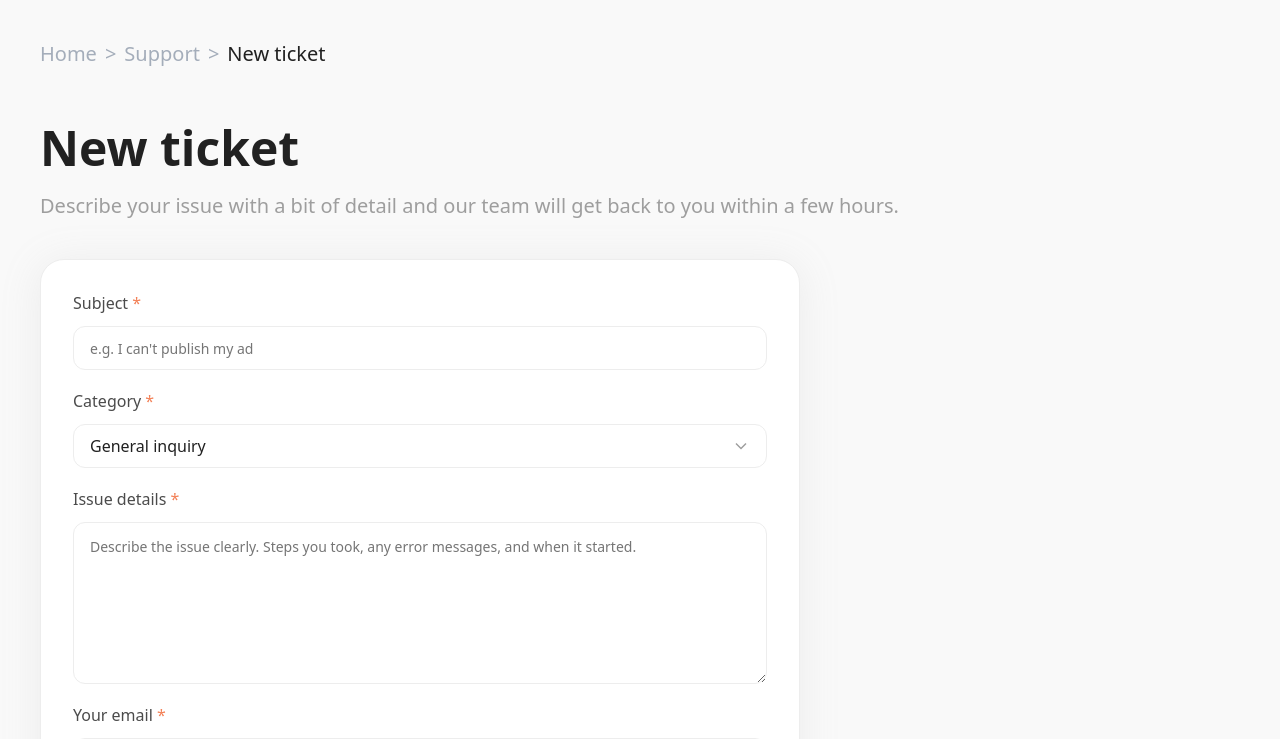
NewTicketClient › lets guests file a ticket and shows the reference to quote
The width and height of the screenshot is (1280, 739).
Step 1. Type "Cannot publish my ad" into the field labelled "Subject" → [420, 348], box [73,326,767,370]
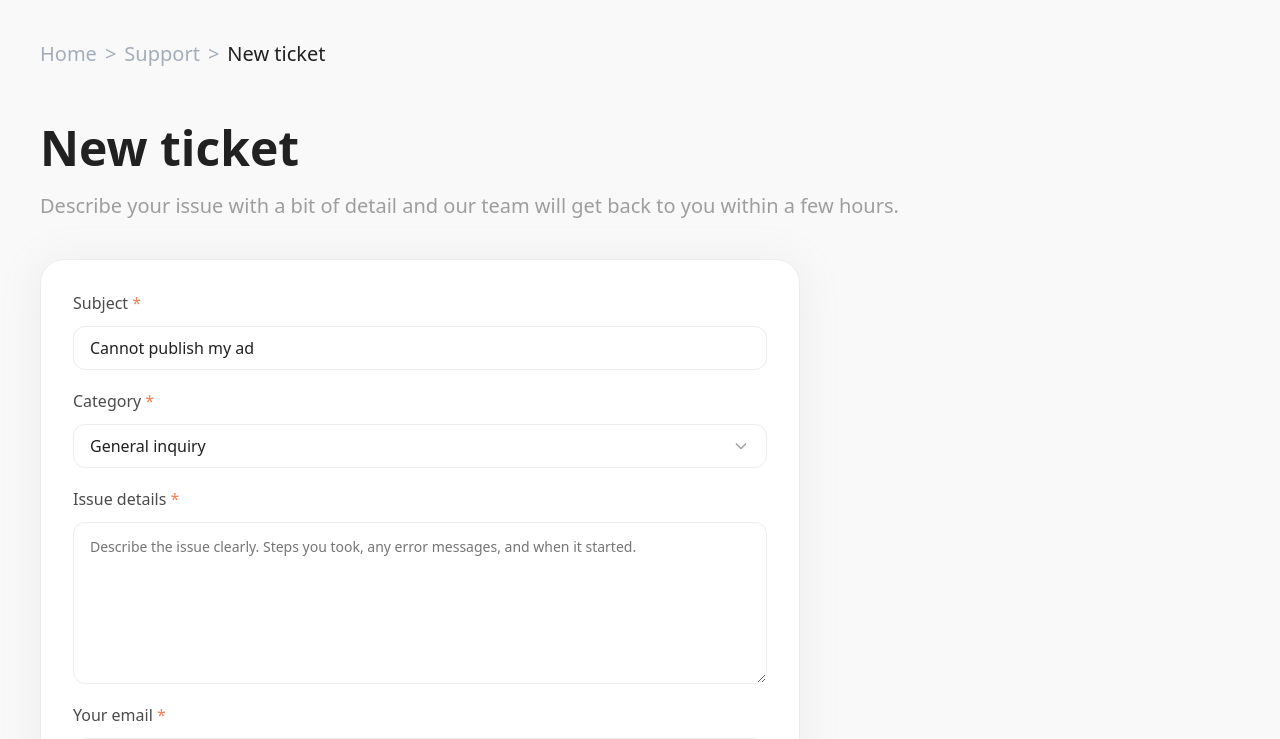
Step 2. Select "Technical issue" in the dropdown labelled "Category" → [420, 446], box [73,424,767,468]
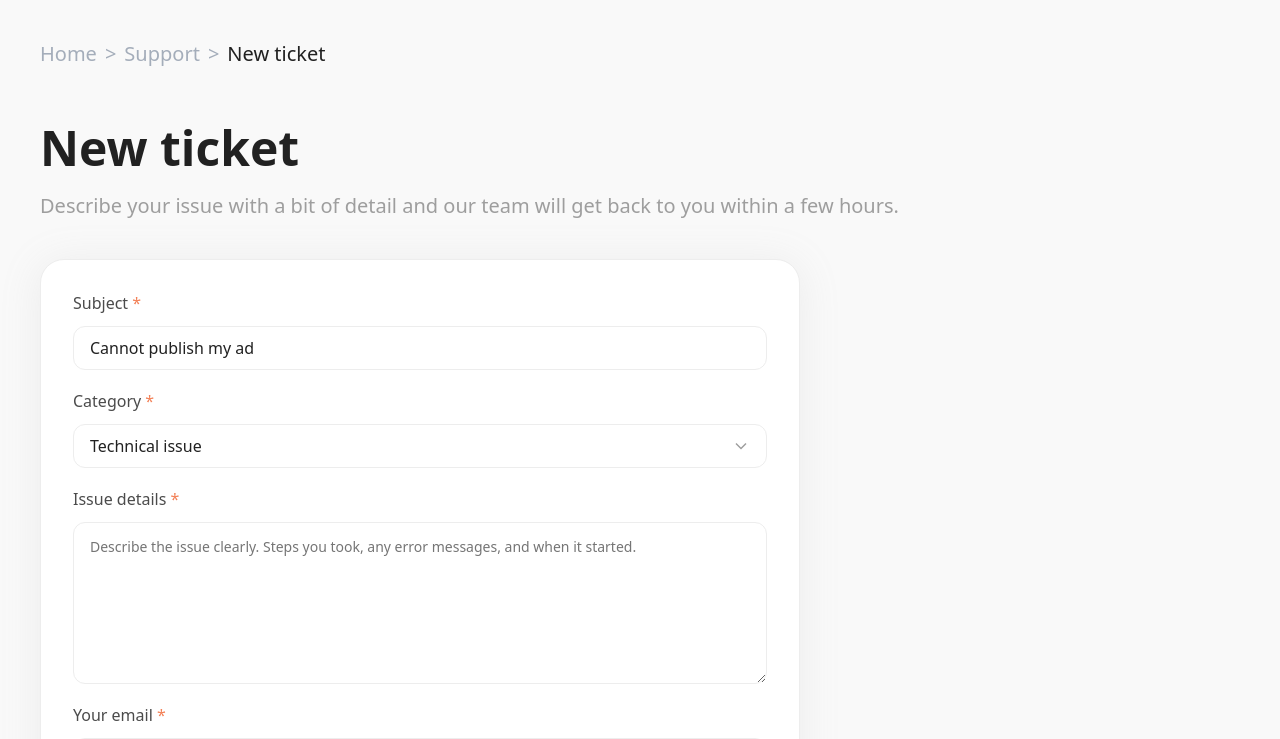
Step 3. Replace the text in the text box labelled "Issue details" with "The publish button does nothing on step three." → [420, 603], box [73,522,767,684]
(page scrolled)
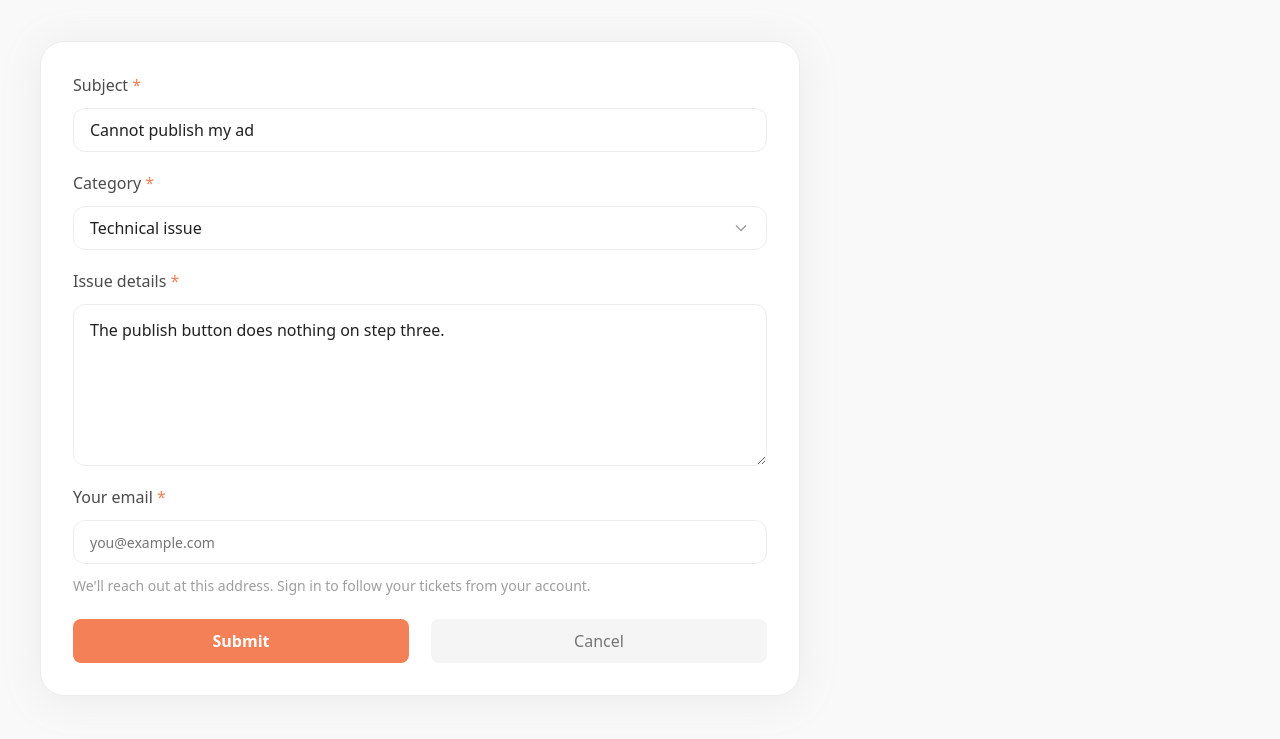
Step 4. Type "guest@example.qa" into the field labelled "Your email" → [420, 542], box [73,520,767,564]
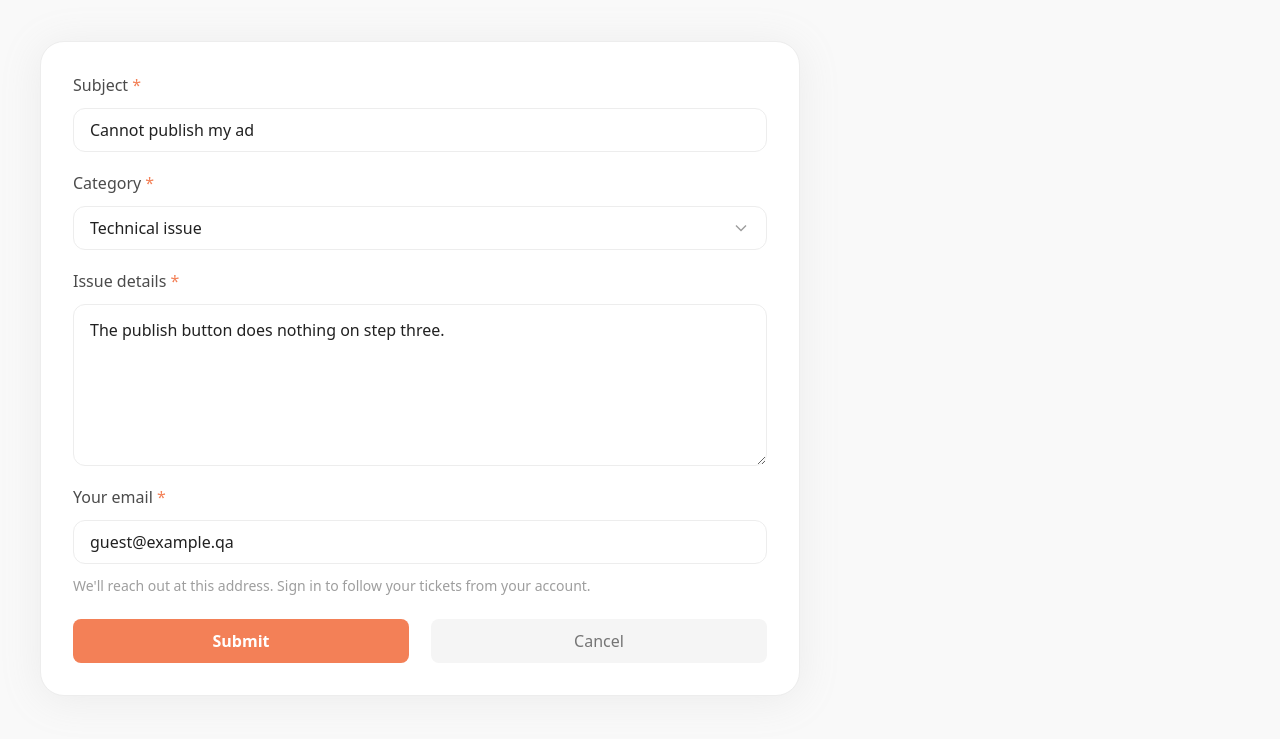
Step 5. Click the button "Submit" → [241, 641], box [73,619,409,663]
(page scrolled)
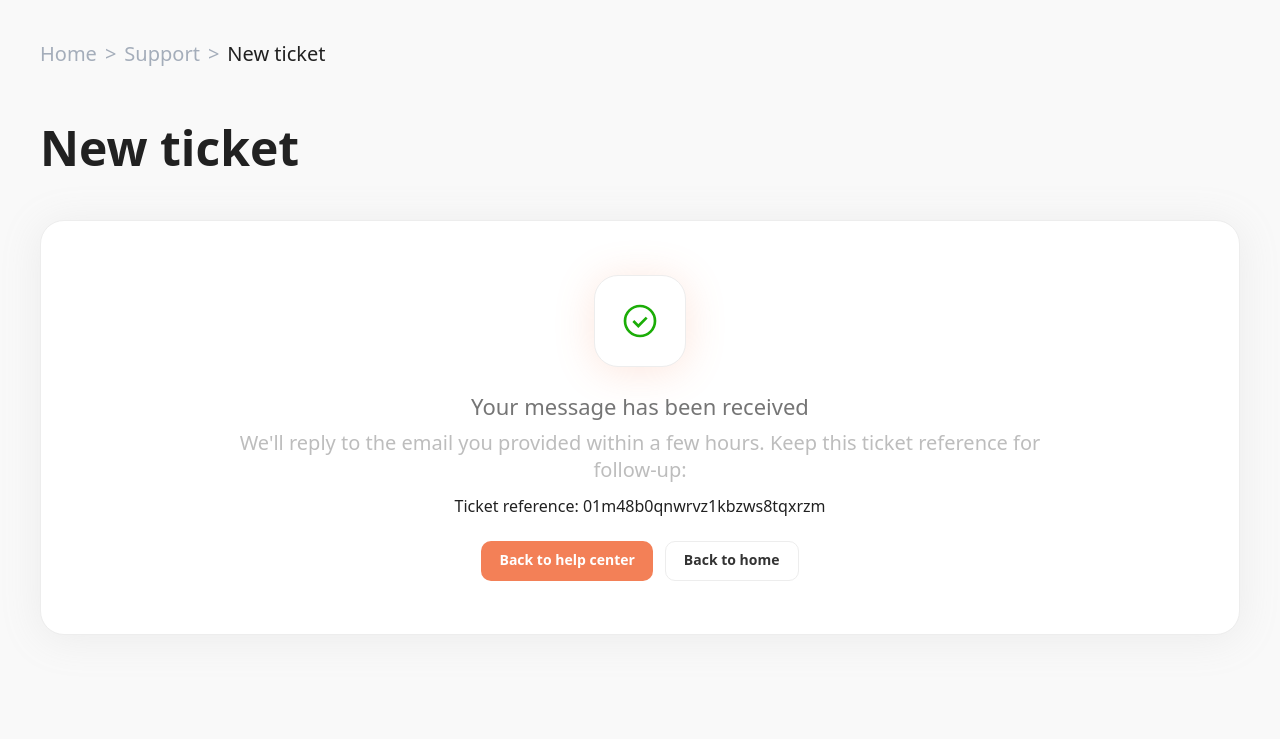
Result: the heading "Your message has been received" is shown at [471,390,809,420]
